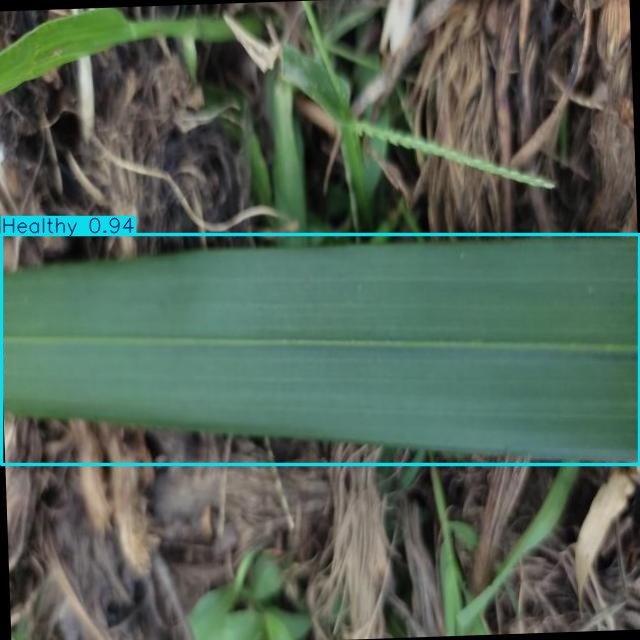Healthy: (2, 235, 640, 464)
